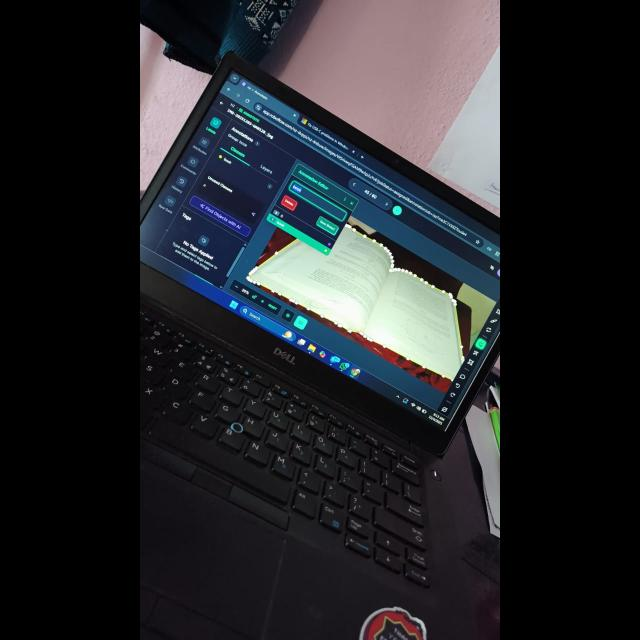laptop: (140, 48, 500, 640)
